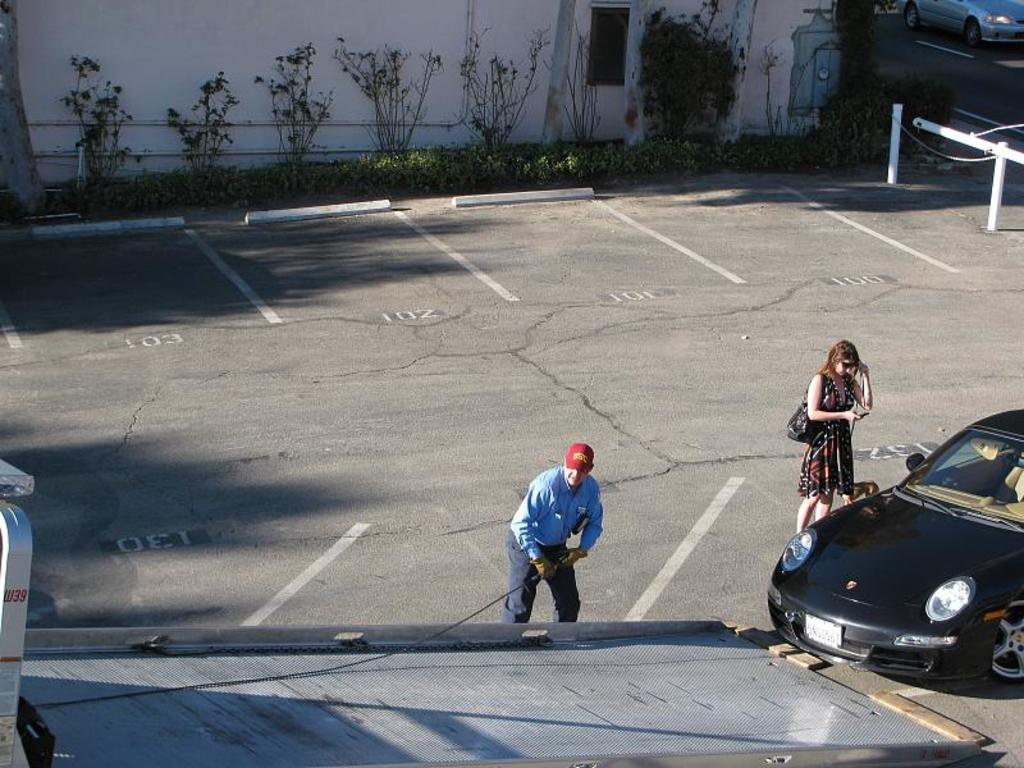Car: (765, 407, 1022, 686), (899, 0, 1022, 46)
